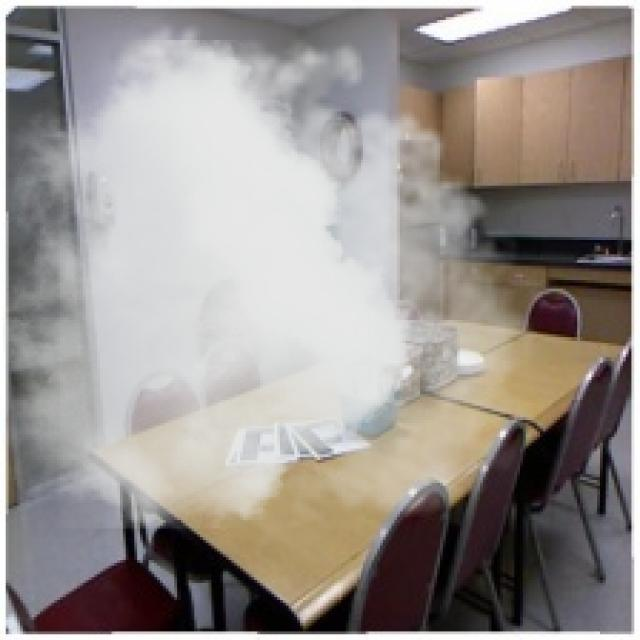smoke: (3, 9, 554, 528)
